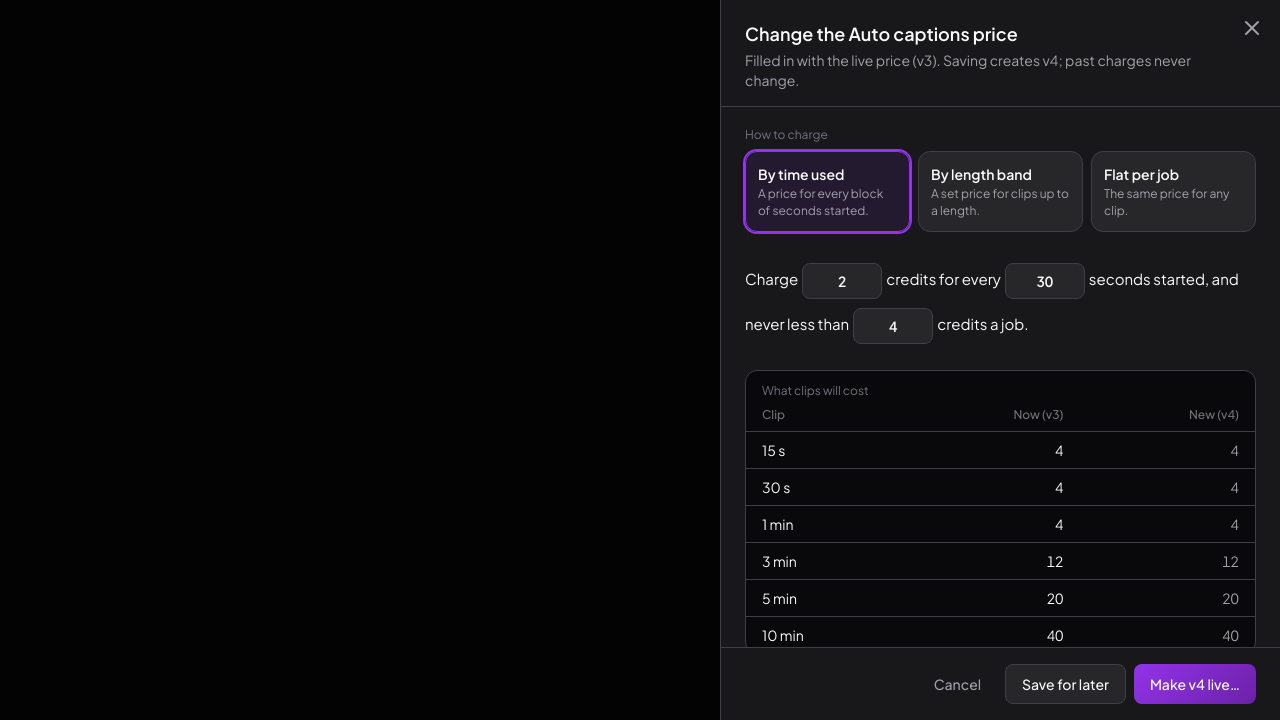
Scenario: ChangePriceSheet › compares against the live price as the user types
Replace the text in the field named "Credits per block" with "3" at (842, 281), box left=802, top=263, right=882, bottom=299
(page scrolled)
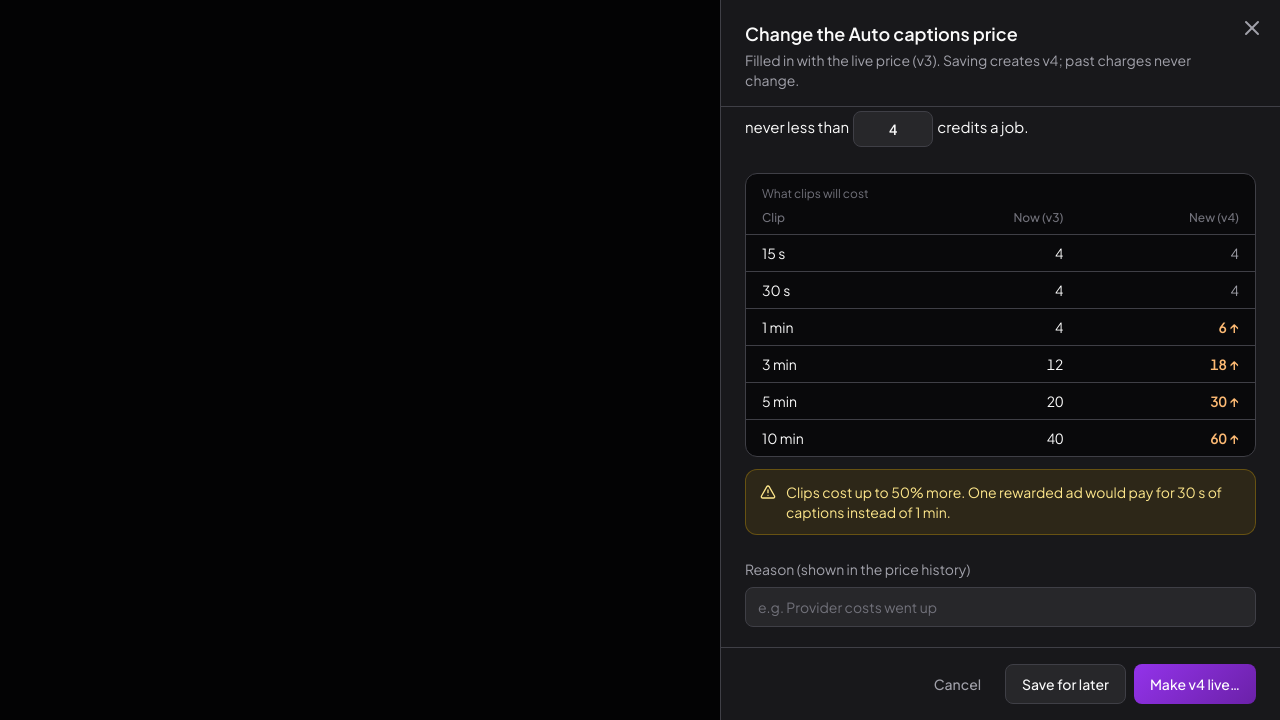
Expected: the message shows "Clips cost up to 50% more.", left=786, top=483, right=1222, bottom=521
